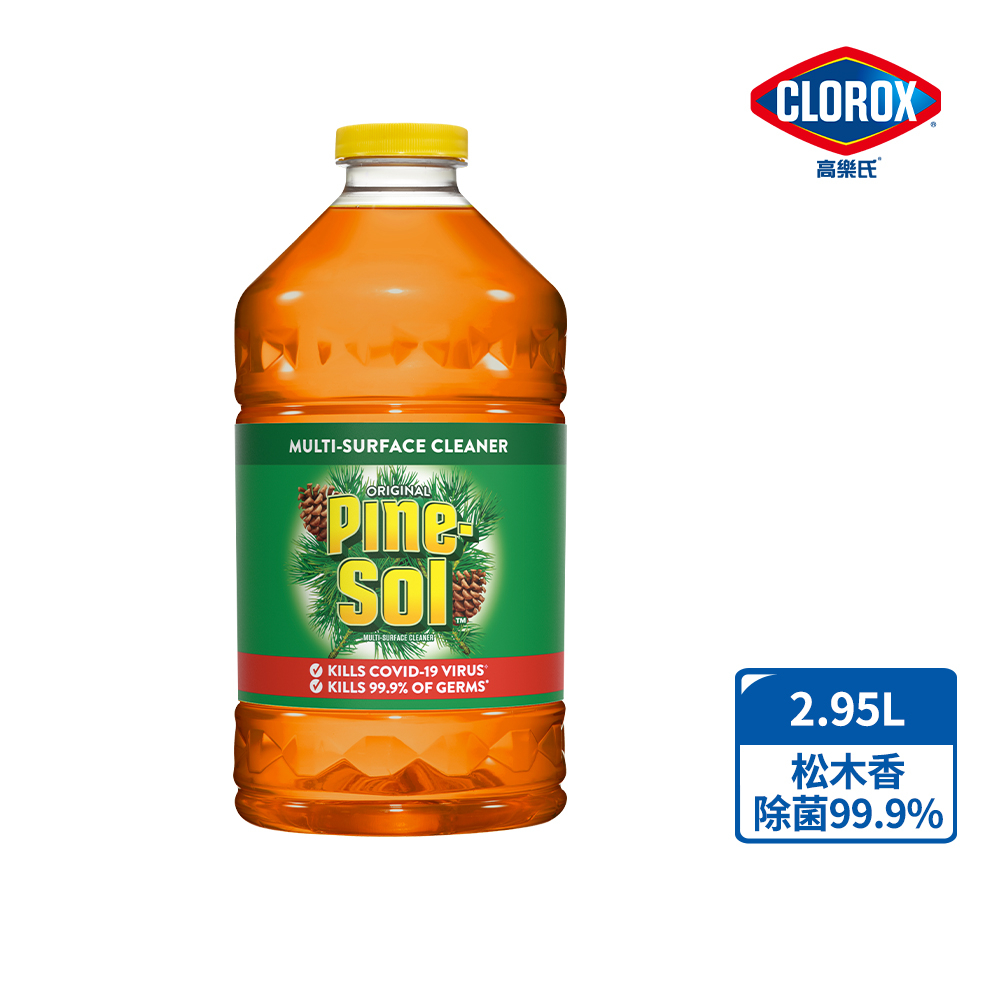cleaner: (208, 121, 589, 842)
